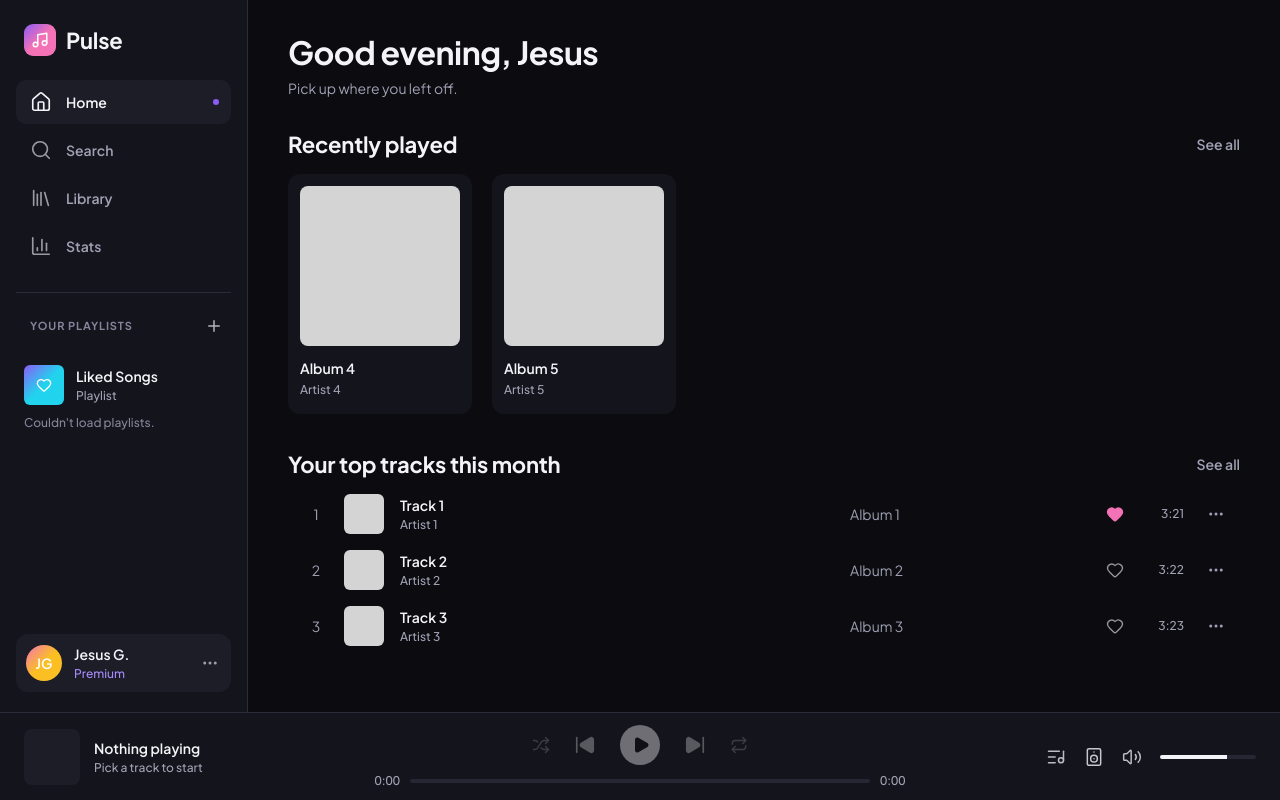
Test case: HomePage › toggles a liked track optimistically
This screenshot has width=1280, height=800.
Step 1. Click the button named "Remove Track 1 from Liked Songs" → click(1115, 514), box [1106,505,1124,523]
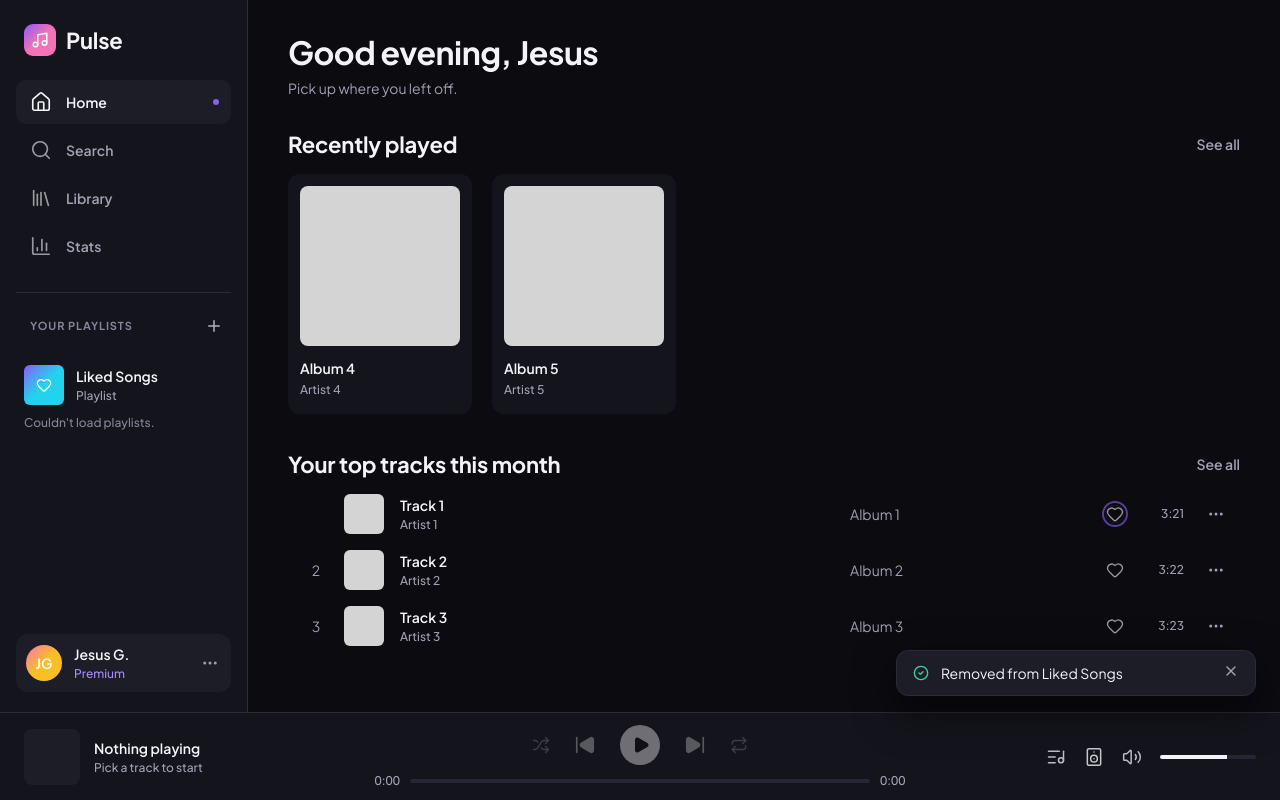
Check: the button named "Save Track 1 to Liked Songs" is not pressed, box [1106,505,1124,523]
